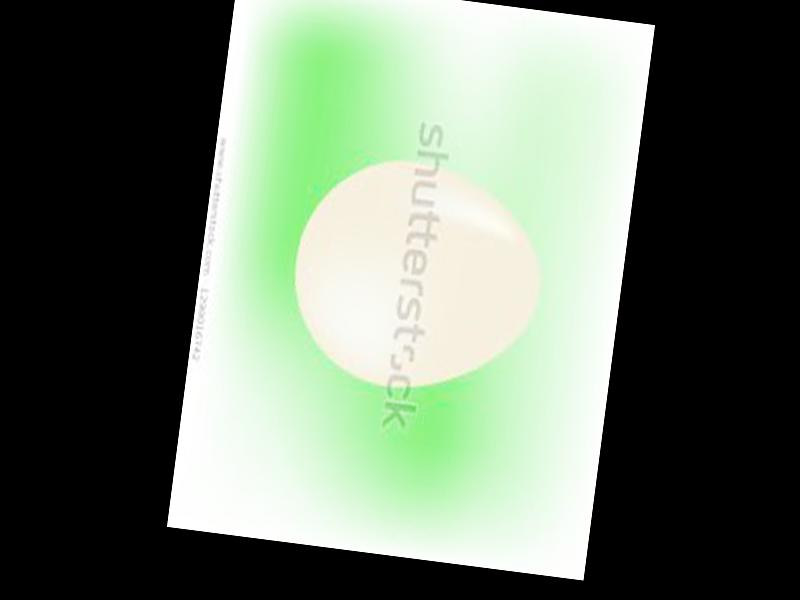Eggs: (282, 149, 552, 404)
